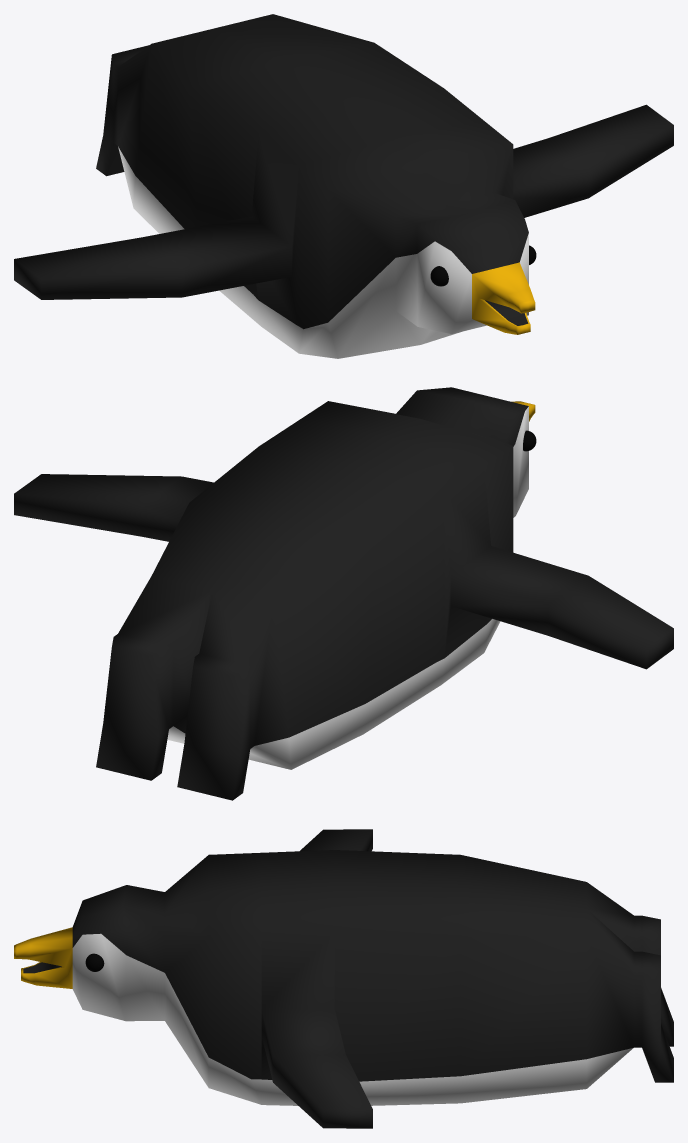
Rendered from ModelPenguin.fbx.
The picture shows the model from 3 angles, top to bottom: view 1: azimuth 30°, elevation 25°; view 2: azimuth 150°, elevation 25°; view 3: azimuth 270°, elevation 25°; orthographic projection. The views are drawn at different scales.
Parts seen in each view (by area): view 1: Penguin; view 2: Penguin; view 3: Penguin.
Part boxes in pixels (x1,y1,x2,y2): Penguin: [14, 14, 673, 358]; Penguin: [14, 387, 673, 800]; Penguin: [14, 829, 673, 1128].
Bounding box in the file's own units: 140 × 42.13 × 140.
